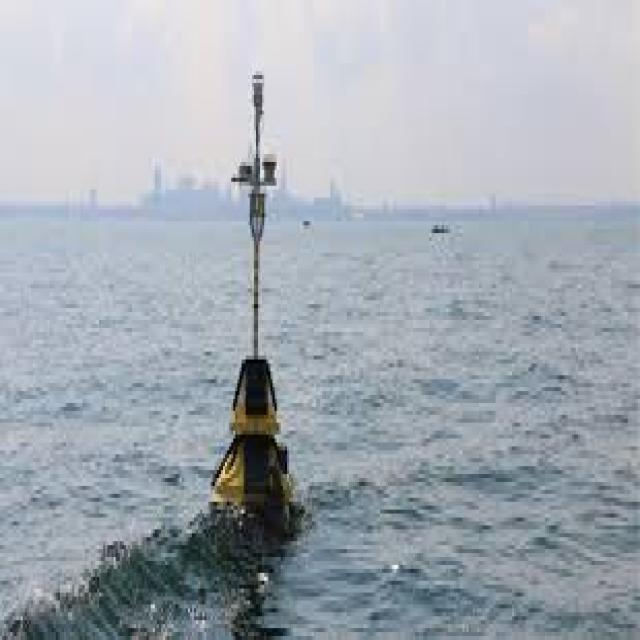2.5 sepcial mark: (216, 57, 295, 519)
